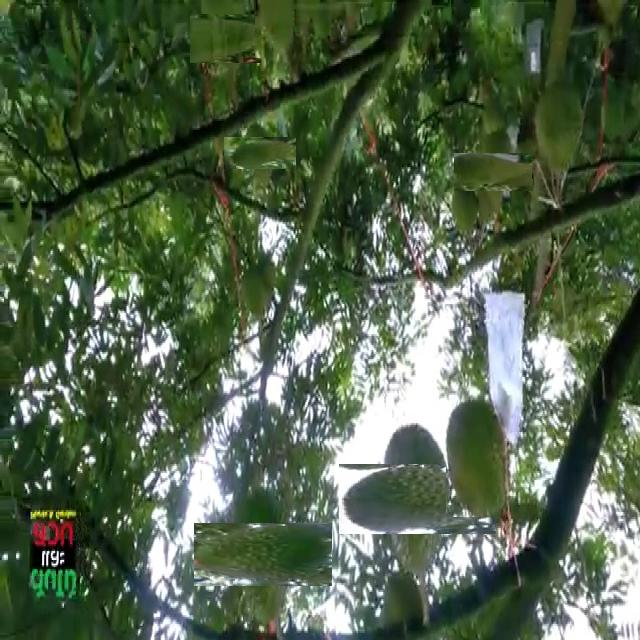durian: (360, 442, 474, 556), (213, 504, 314, 606), (446, 401, 514, 517), (532, 76, 586, 178), (195, 8, 256, 68), (464, 142, 523, 202), (234, 126, 286, 179), (255, 2, 300, 58), (239, 264, 273, 323), (450, 182, 480, 238)
